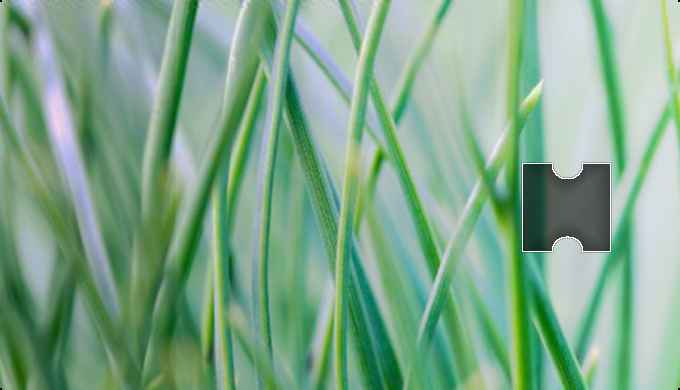gap: (521, 161, 611, 251)
